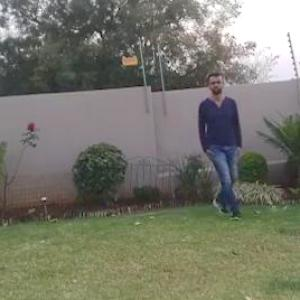follow: (206, 66, 248, 221)
